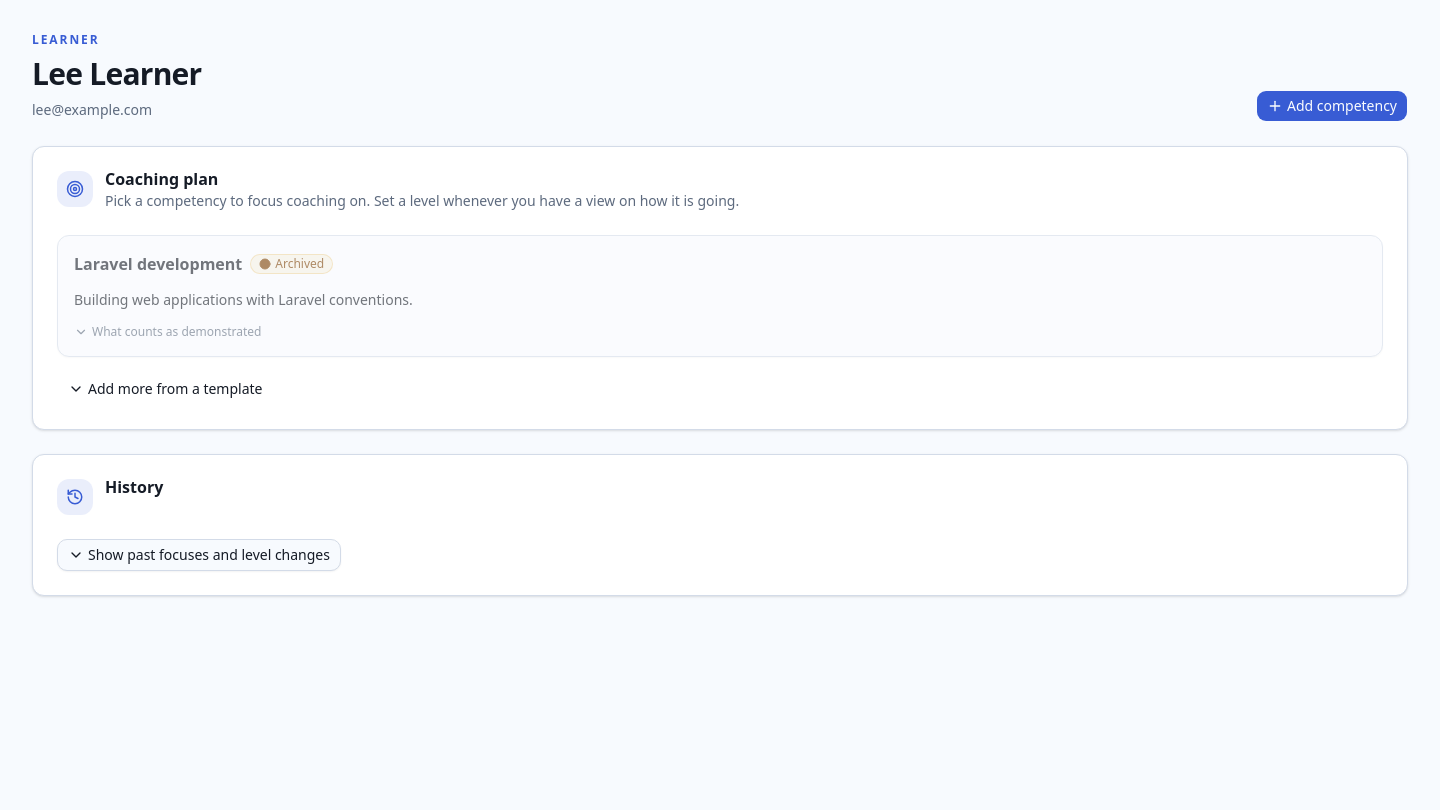
Scenario: Learner page › still adds competencies after every one is archived
This screenshot has width=1440, height=810.
Click the button "Add competency" at (1332, 106), box [1256,90,1408,122]
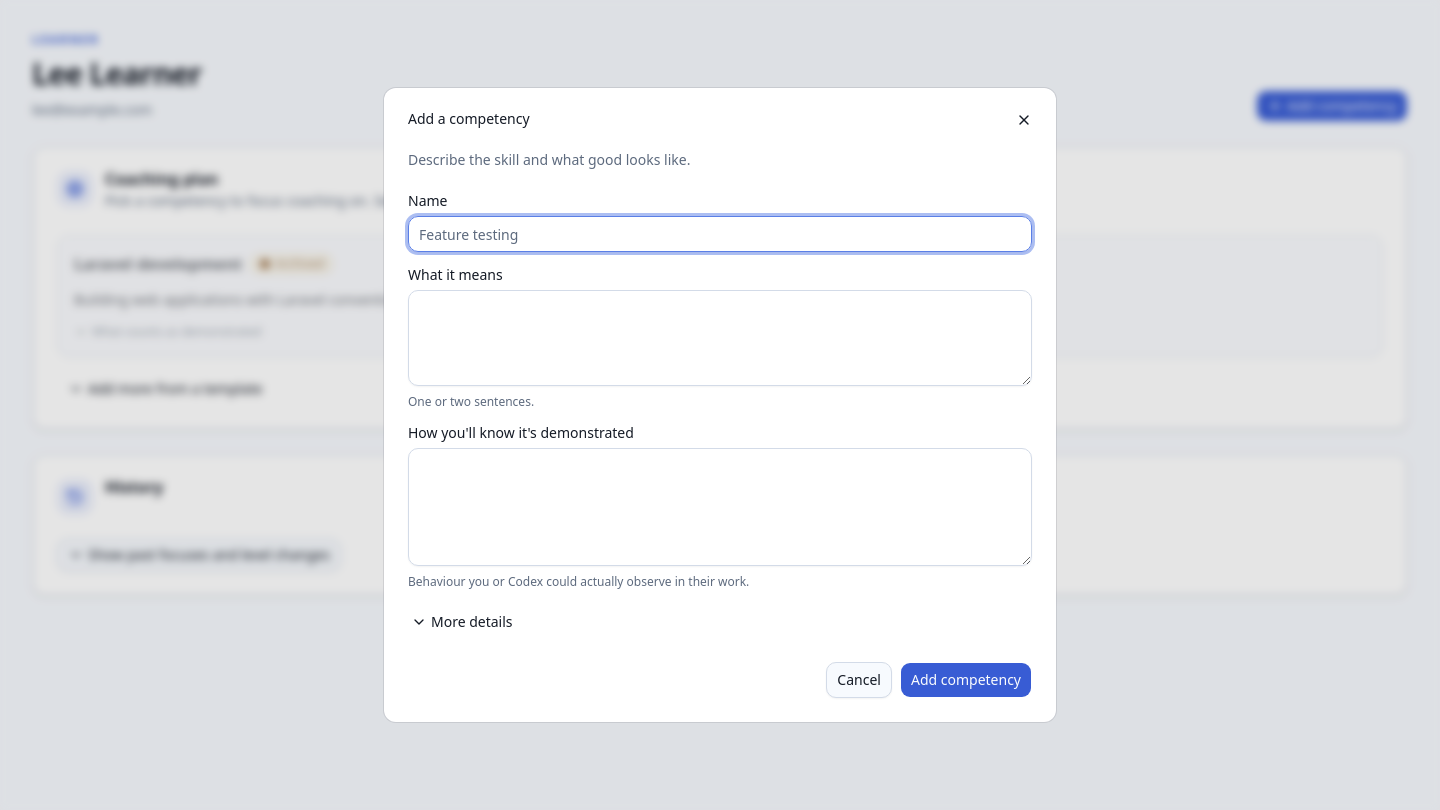
Now the dialog "Add a competency" is shown, box [384,88,1056,722]
